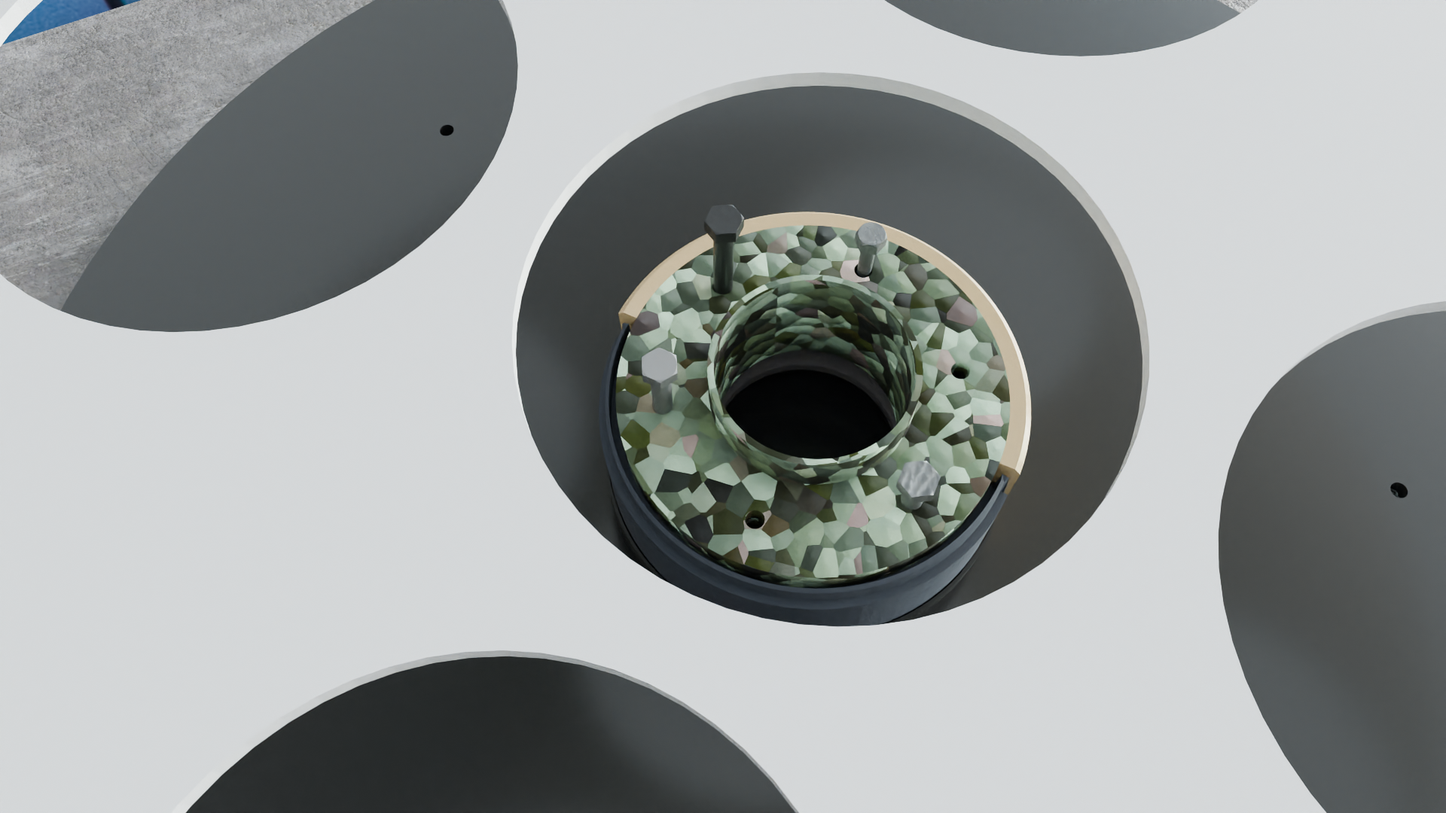bolt: (898, 461, 941, 498), (704, 205, 744, 236), (642, 348, 677, 383), (856, 222, 887, 248)
